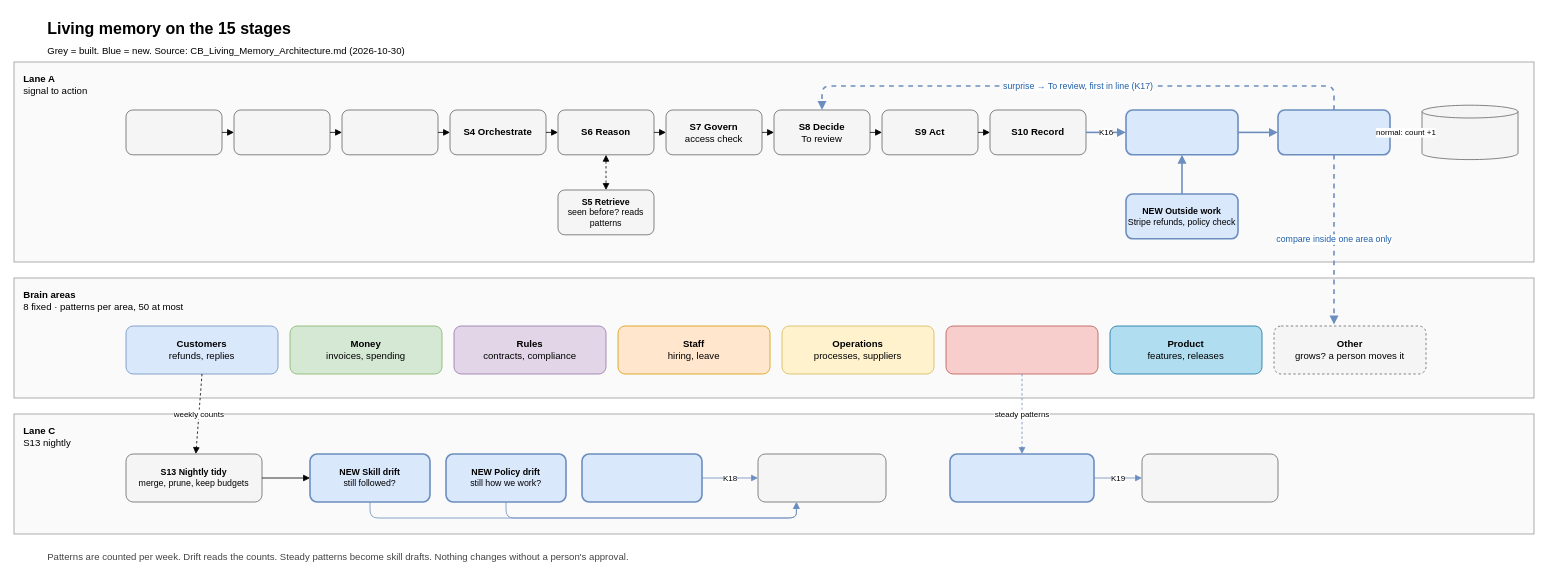
The diagram is 1548 pixels wide and 578 high, and some of its shapes have lost their labels. The shapes that lost their labels are listed below. From the top down, each one's centre as x and y in pixels, then its label:
At pixel 173 132: "S1 Capture".
At pixel 281 132: "S2 Normalize tags the area".
At pixel 389 132: "S3 Route".
At pixel 1181 132: "NEW Trace start to end, with the why".
At pixel 1333 132: "NEW Triage normal or surprise? no Claude call".
At pixel 1469 132: "Cold traces S3, after 30 days".
At pixel 1021 349: "Sales leads, deals".
At pixel 641 477: "NEW Security drift right access? zero tolerance".
At pixel 821 477: "To review (S8) owner sees the traces".
At pixel 1021 477: "NEW Skill from traces Skillify drafts from a pattern".
At pixel 1209 477: "Studio change request owner approves (S14)".
